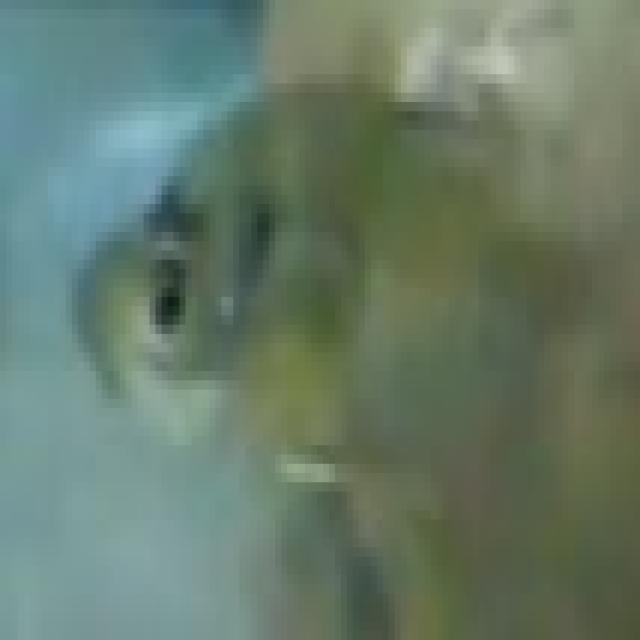Glass-Perchlet: (64, 89, 582, 529)
